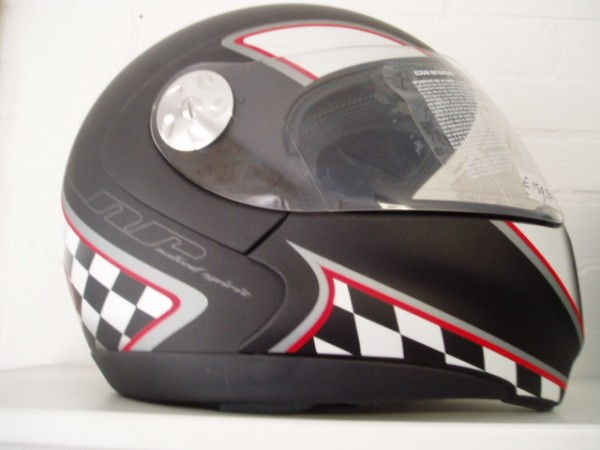helmet: (67, 15, 578, 406)
